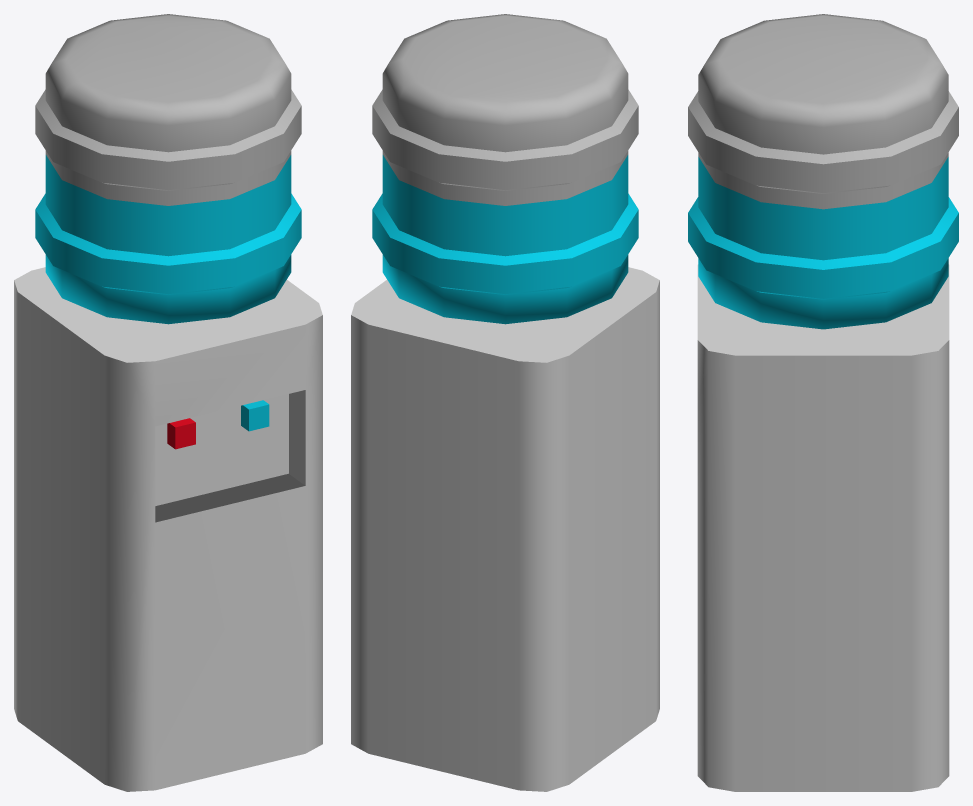
The model's file is cooler.fbx.
3 renders of one model, left to right at view 1: azimuth 30°, elevation 25°; view 2: azimuth 150°, elevation 25°; view 3: azimuth 270°, elevation 25°, orthographic.
Parts seen in each view (by area): view 1: cooler; view 2: cooler; view 3: cooler.
Boxes of the visible parts, bbox=[...] form: cooler: bbox=[14, 14, 322, 791]; cooler: bbox=[351, 14, 659, 791]; cooler: bbox=[688, 14, 958, 791].
Bounding box in the file's own units: 80.68 × 223 × 80.68.
